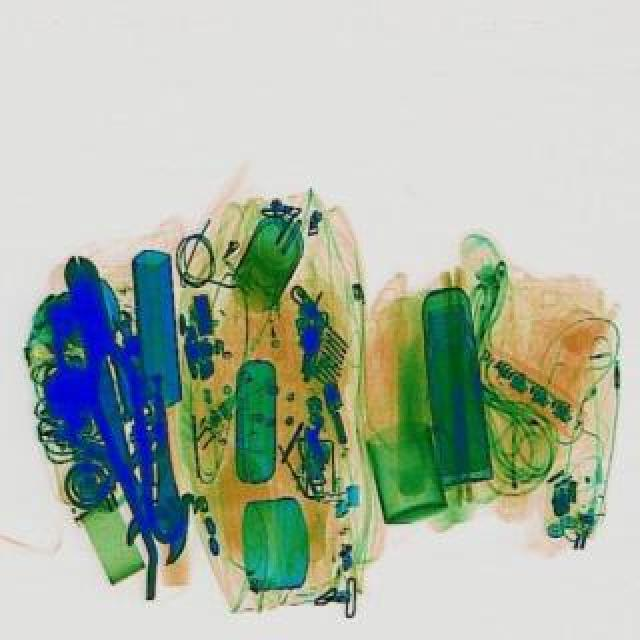wrench: (74, 366, 198, 570), (64, 252, 118, 340)
